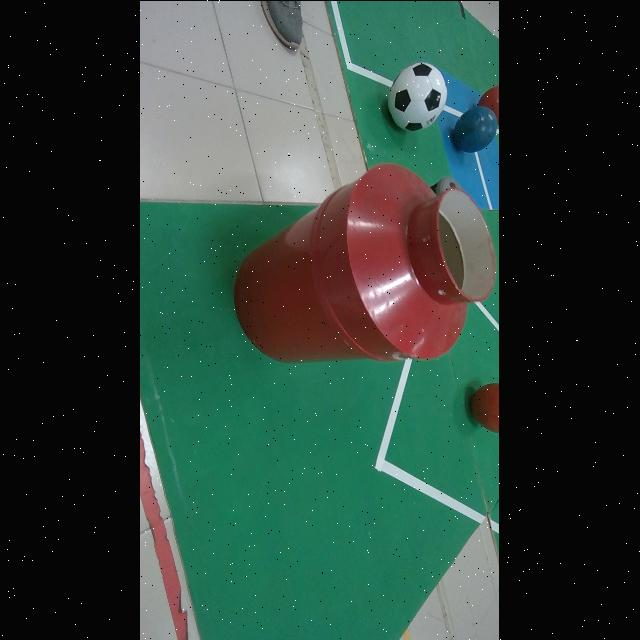B: (453, 105, 498, 152)
R: (472, 383, 500, 432), (479, 84, 500, 123)
